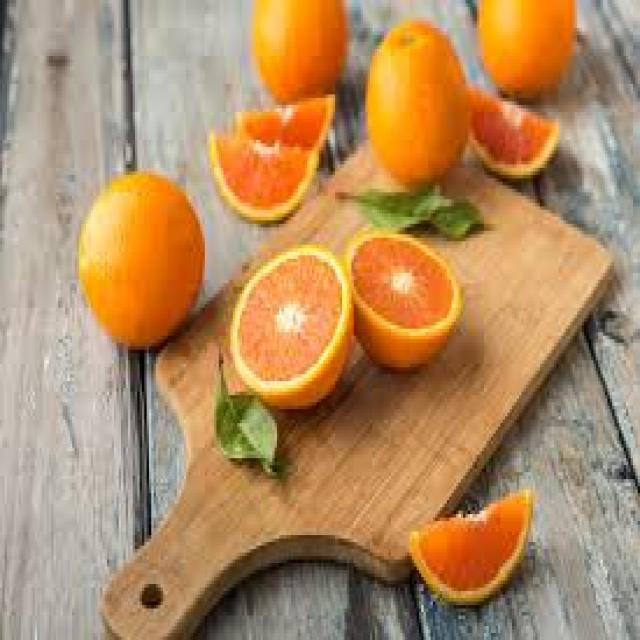orange: (79, 168, 209, 346)
